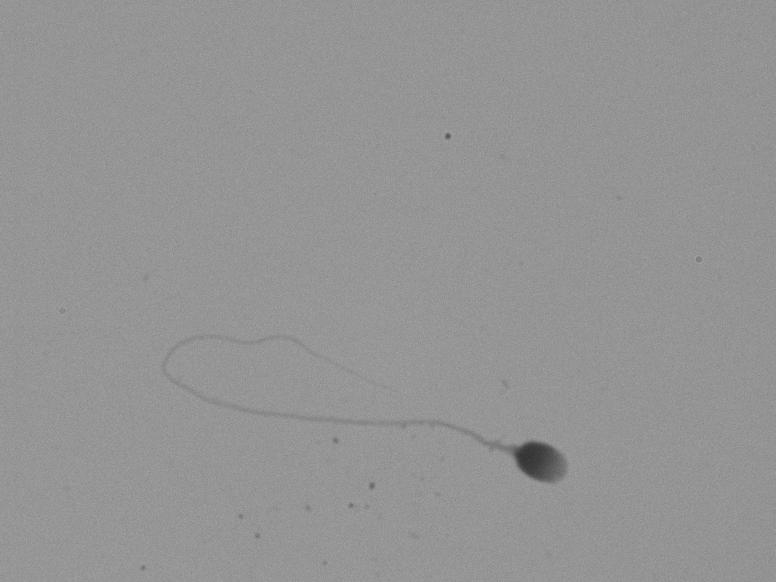Normal: (166, 307, 628, 530)
